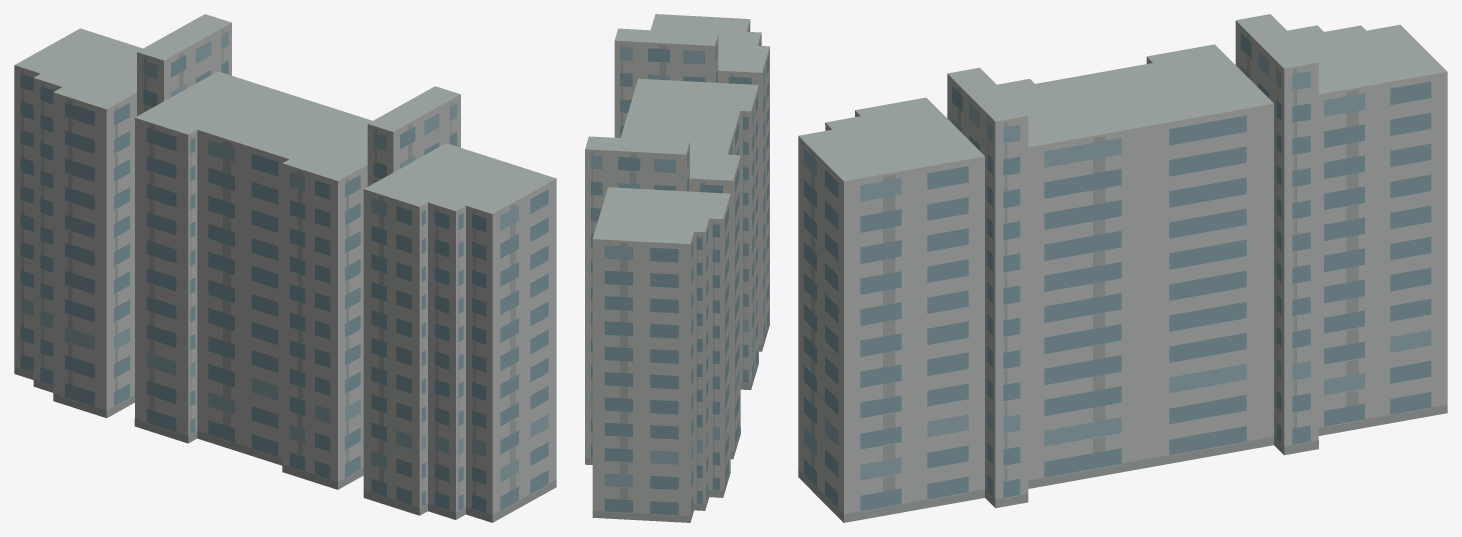
Rendered from residential-b654cfef-ceaf-47d4-9c9f-cf8d0173948c.glb.
3 renders of one model, left to right at view 1: azimuth 30°, elevation 25°; view 2: azimuth 150°, elevation 25°; view 3: azimuth 270°, elevation 25°, orthographic. The views are drawn at different scales.
Parts seen in each view (by area): view 1: residential-b654cfef-ceaf-47d4-9c9f-cf8d0173948c.tmp; view 2: residential-b654cfef-ceaf-47d4-9c9f-cf8d0173948c.tmp; view 3: residential-b654cfef-ceaf-47d4-9c9f-cf8d0173948c.tmp.
Part boxes in pixels (bbox=[...]): residential-b654cfef-ceaf-47d4-9c9f-cf8d0173948c.tmp: bbox=[14, 14, 556, 522]; residential-b654cfef-ceaf-47d4-9c9f-cf8d0173948c.tmp: bbox=[585, 14, 769, 522]; residential-b654cfef-ceaf-47d4-9c9f-cf8d0173948c.tmp: bbox=[798, 14, 1447, 522].
Bounding box in the file's own units: 32.89 × 37.8 × 57.54.
